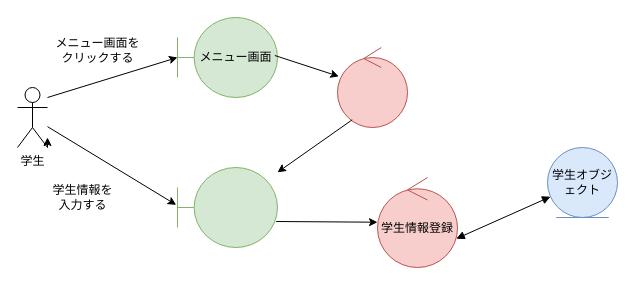
This 635x285 diagram has some shape labels left out. The shapes that lost their labels are listed below. From the top down, each one's centre as x and y in pixels, then its label:
At (372,87): "表示".
At (227,207): "学制登録画面".
